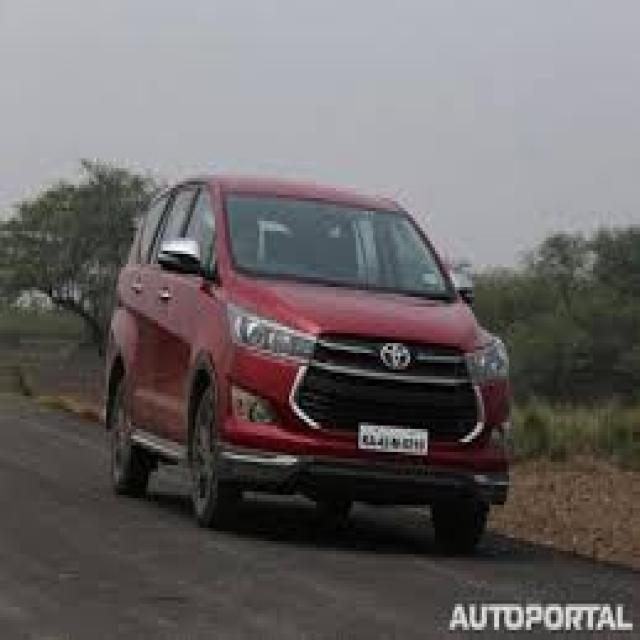Car: (106, 175, 509, 550)
